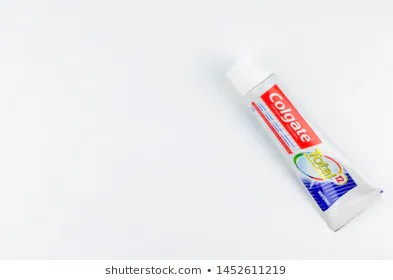colgate-total-150gm: (223, 43, 386, 227)
